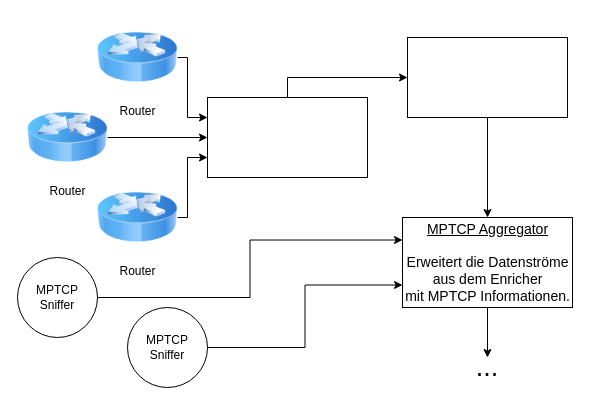
Some shapes in this 590 by 405 pixel diagram are drawn without their labels. Here are the shapes that lost their labels. From the top down, the centre of each, then its label:
[487,77]: Enricher Hinzufügen von Daten
[287,137]: Goflow Serialisieren der Nachrichten mit Protobuf
